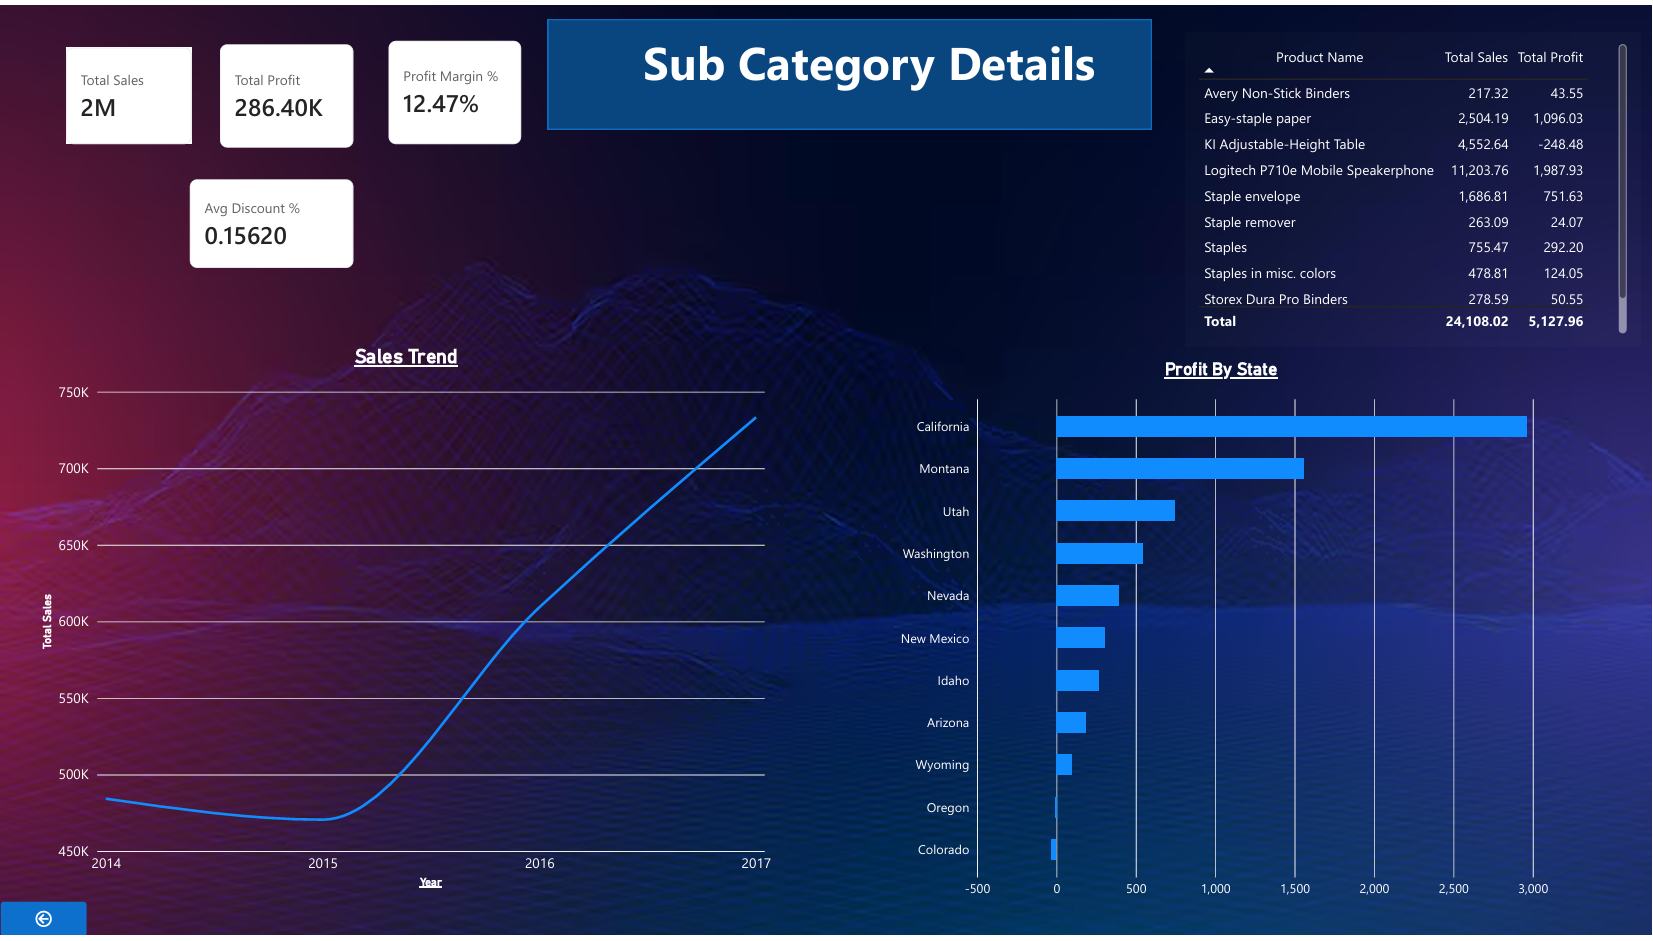

Layout of this report page (visuals, bound fields, positions):
{"tool":"powerbi","page":{"name":"Page 6","canvas":[1920,1080],"ordinal":3},"visuals":[{"type":"shape","box":[636,16.5,701.9,127.6],"z":0},{"type":"textbox","box":[746.7,28.1,611.1,81.1],"z":1000},{"type":"actionButton","box":[0,1041.5,100,40],"z":2000},{"type":"cardVisual","fields":{"Data":["_Measures.Total Sales"]},"box":[76.2,49.4,146.1,111.1],"z":3000},{"type":"cardVisual","fields":{"Data":["_Measures.Total Profit"]},"box":[255.2,45.3,154.4,119.4],"z":4000},{"type":"cardVisual","fields":{"Data":["_Measures.Profit Margin %"]},"box":[450.8,41.2,154.4,119.4],"z":5000},{"type":"cardVisual","fields":{"Data":["_Measures.Avg Discount %"]},"box":[220.2,201.7,189.4,102.9],"z":6000},{"type":"lineChart","title":"Sales Trend ","fields":{"Category":["Dim_Date.Year"],"Y":["_Measures.Total Sales"]},"box":[30.9,380.8,881,660.7],"z":7000},{"type":"barChart","title":"Profit By State","fields":{"Category":["Dim_Location.State"],"Y":["_Measures.Total Profit"]},"box":[1023,397.3,792.5,660.7],"z":8000},{"type":"tableEx","fields":{"Values":["Dim_Product.Product Name","_Measures.Total Sales","_Measures.Total Profit"]},"box":[1377,30.9,529,366.4],"z":9000}]}

Visuals, with their boxes in screenshot pixels (x1, y1, x2, y2), scaled from the page's 1920x1080 canvas onto the 1653x941 screenshot:
shape: x1=548, y1=14, x2=1152, y2=126
textbox: x1=643, y1=24, x2=1169, y2=95
actionButton: x1=0, y1=907, x2=86, y2=940
cardVisual - _Measures.Total Sales: x1=66, y1=43, x2=191, y2=140
cardVisual - _Measures.Total Profit: x1=220, y1=39, x2=353, y2=144
cardVisual - _Measures.Profit Margin %: x1=388, y1=36, x2=521, y2=140
cardVisual - _Measures.Avg Discount %: x1=190, y1=176, x2=353, y2=265
"Sales Trend " lineChart: x1=27, y1=332, x2=785, y2=907
"Profit By State" barChart: x1=881, y1=346, x2=1563, y2=922
tableEx - Dim_Product.Product Name x _Measures.Total Sales: x1=1186, y1=27, x2=1641, y2=346
